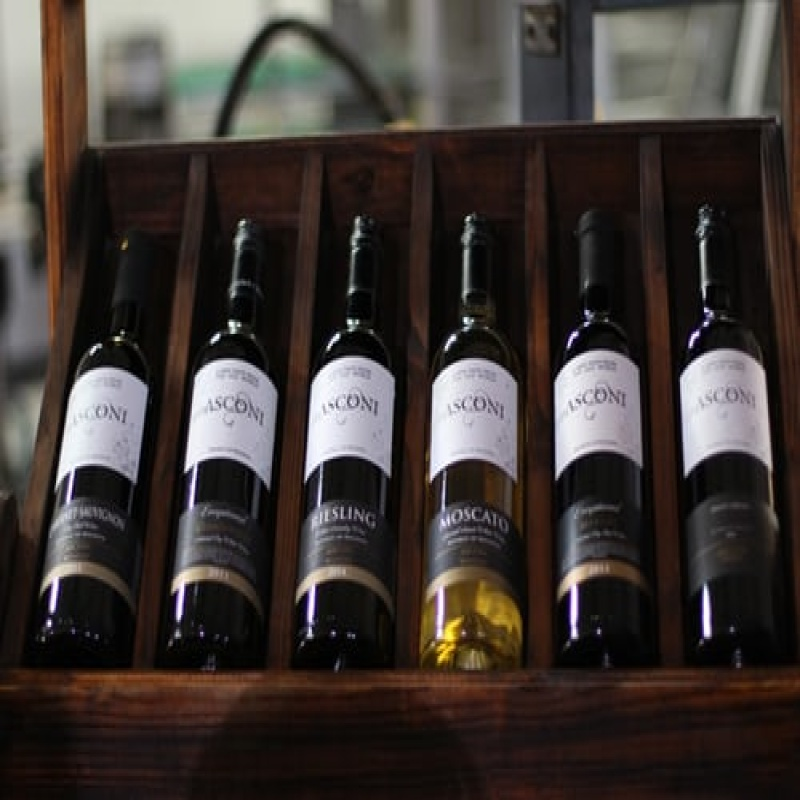wine: (678, 202, 786, 672), (44, 232, 153, 668), (556, 215, 656, 655), (431, 213, 528, 657), (297, 221, 392, 664), (185, 219, 267, 666)
